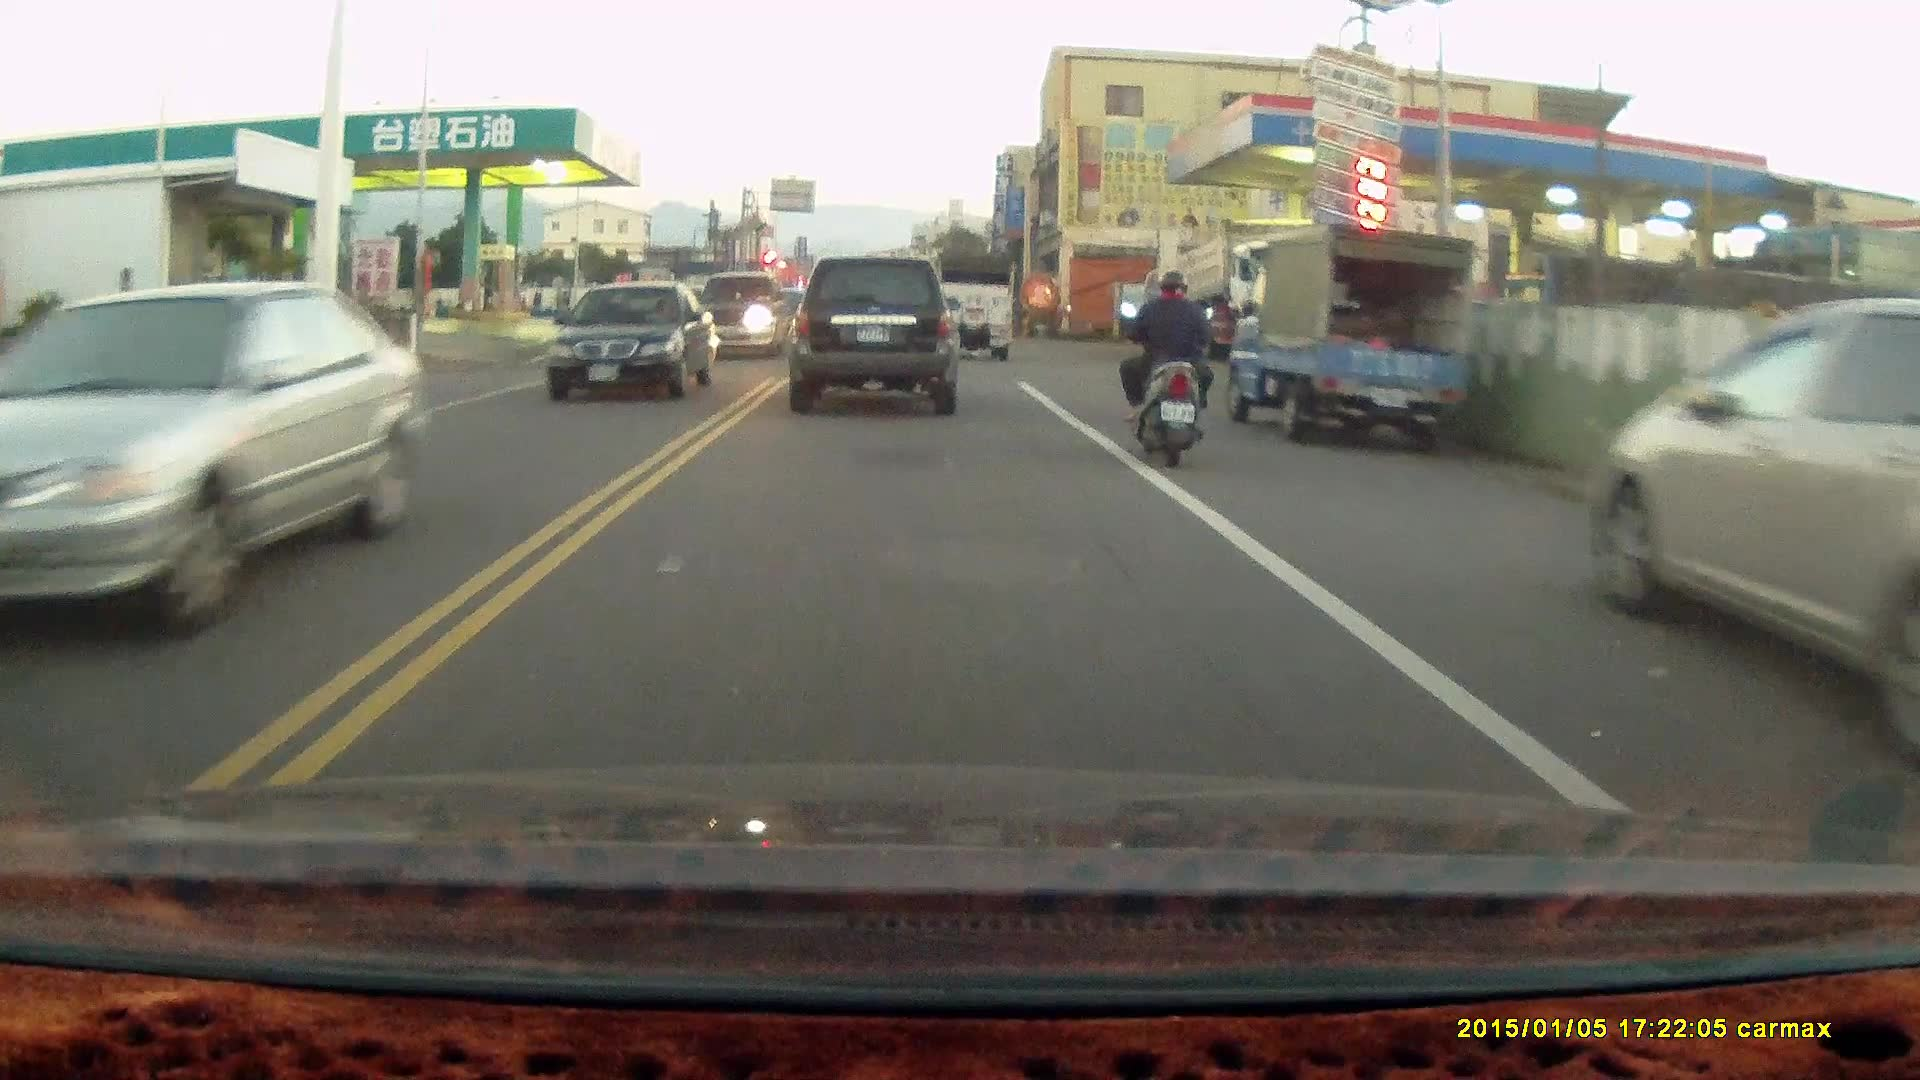rider: (1117, 271, 1218, 468)
vehicle: (1, 277, 423, 663), (1588, 295, 1920, 755), (1227, 222, 1479, 444), (787, 253, 959, 410), (550, 283, 721, 402), (921, 250, 1018, 361), (690, 271, 792, 367)
